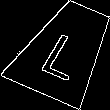L_NE: (35, 21, 94, 80)
